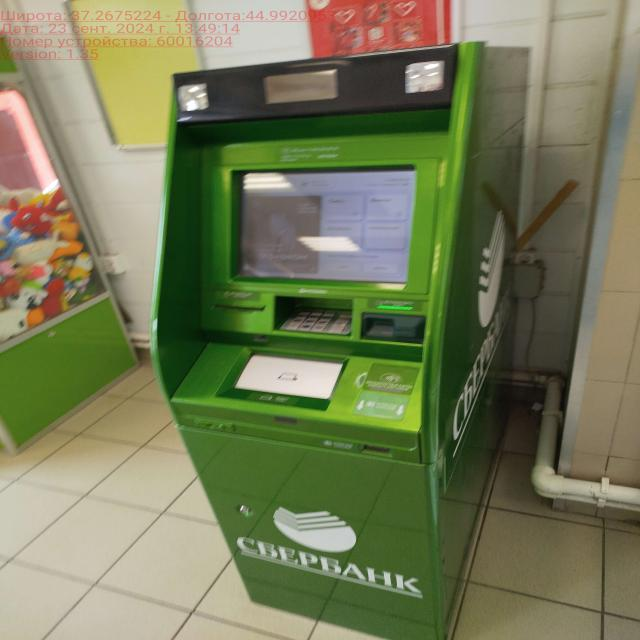bank: (153, 41, 528, 640)
